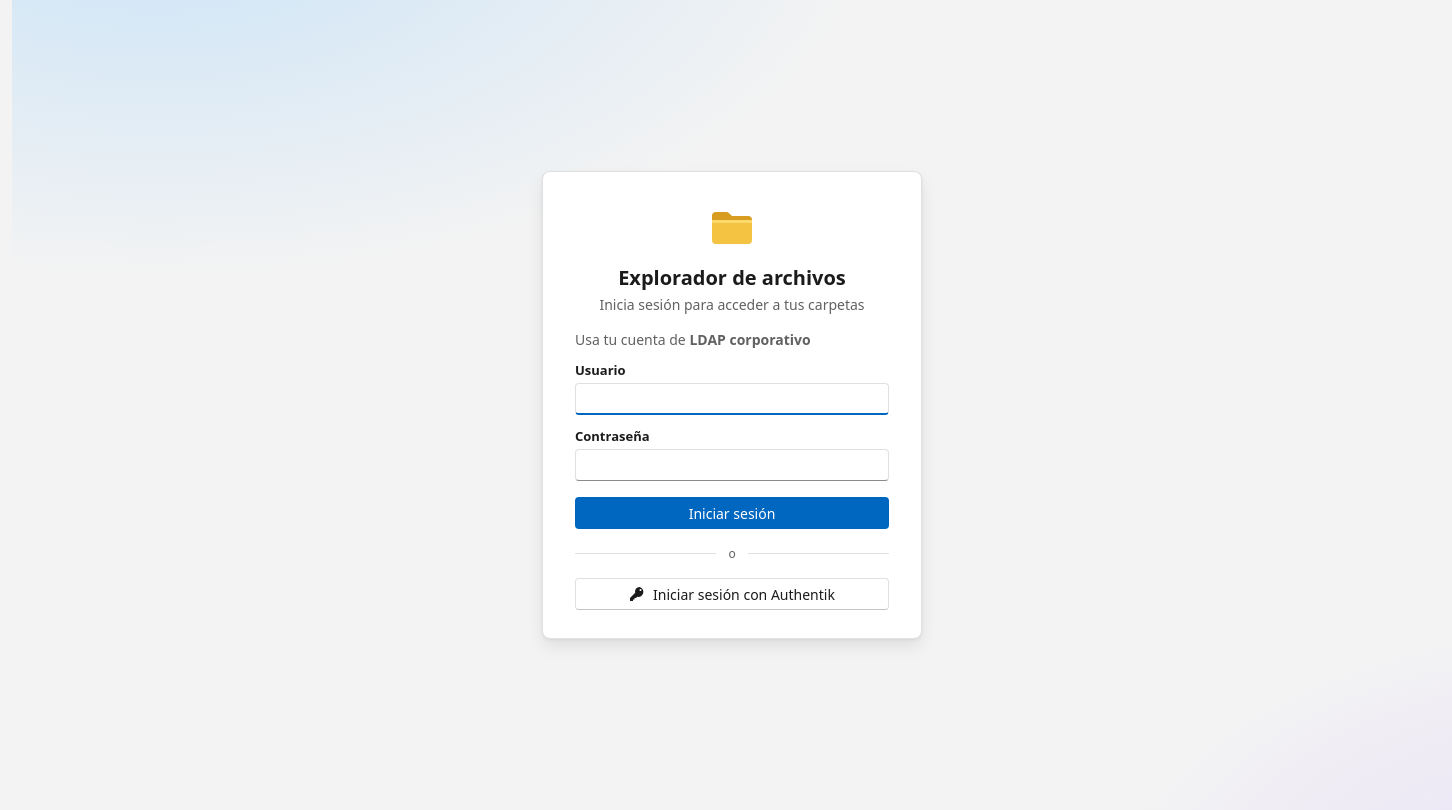
Test case: LoginPage › logs in with the directory provider
In the field labelled "Usuario": [732, 399] box x1=575 y1=383 x2=889 y2=415, type "alice"
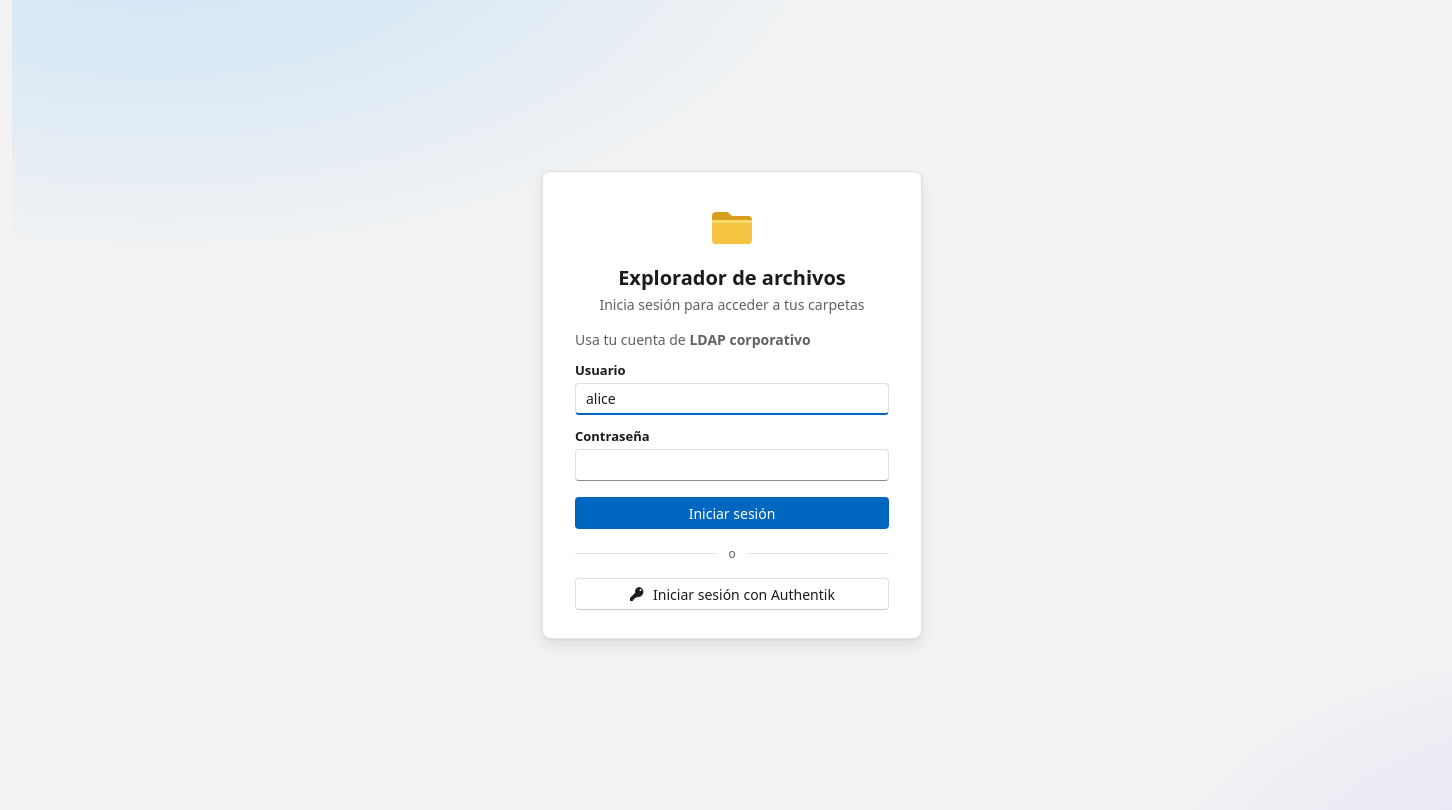
In the password field labelled "Contraseña": [732, 465] box x1=575 y1=449 x2=889 y2=481, type "alice123"
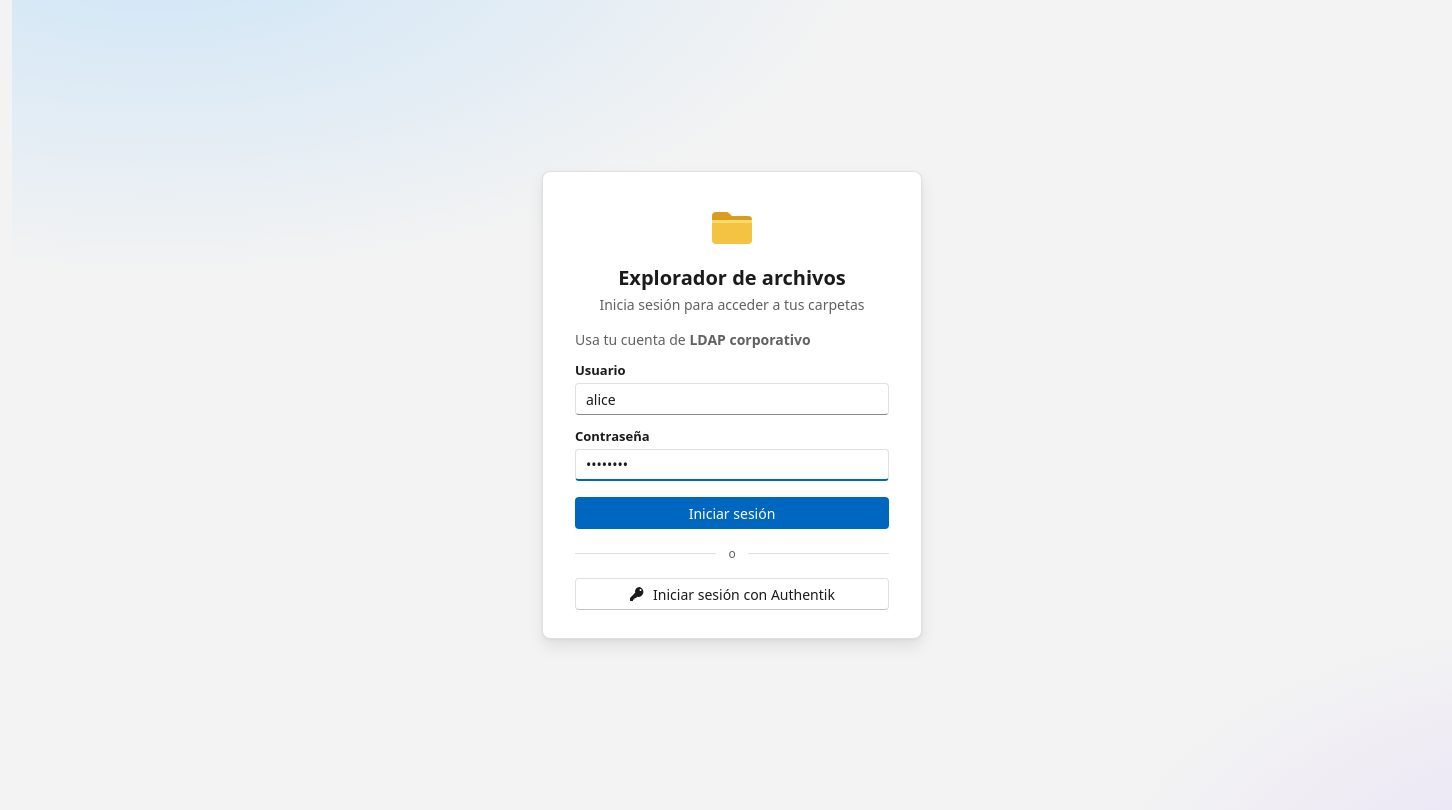
Click the button "Iniciar sesión": [732, 513] box x1=575 y1=497 x2=889 y2=529
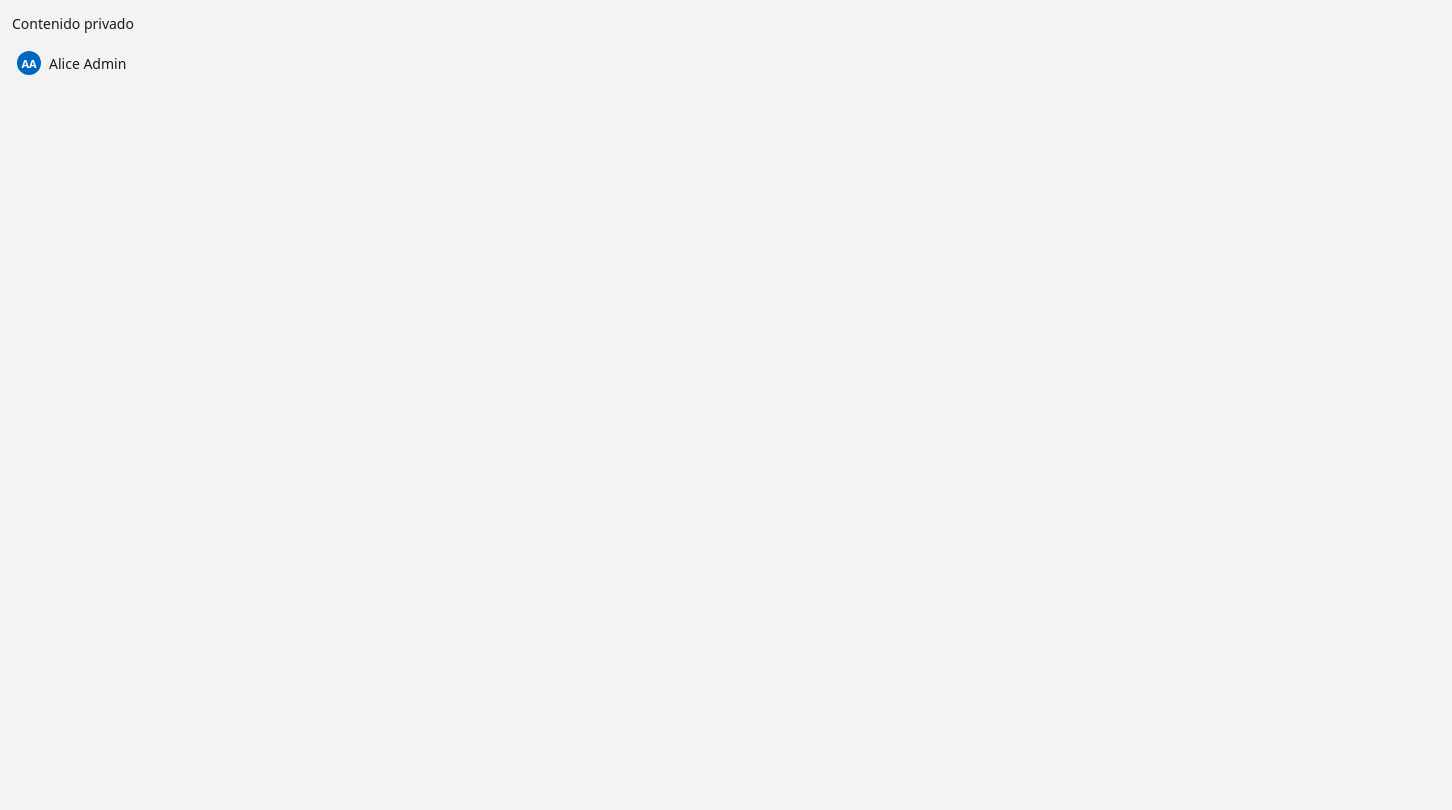
Expected: the text "Contenido privado" is shown, x1=12 y1=14 x2=134 y2=33
